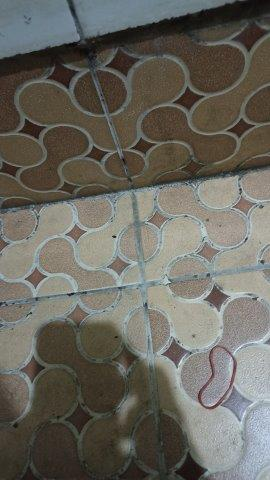karet: (198, 345, 237, 408)
